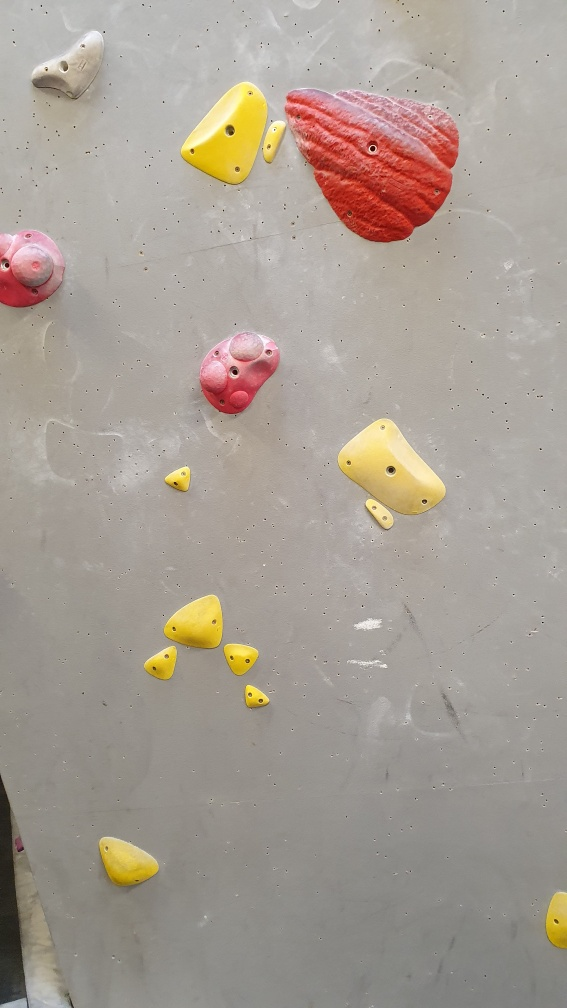Pinch: (360, 491, 397, 534), (259, 116, 290, 164)
Sloper: (8, 243, 60, 292), (203, 359, 236, 394), (228, 330, 263, 362), (225, 387, 260, 419)
